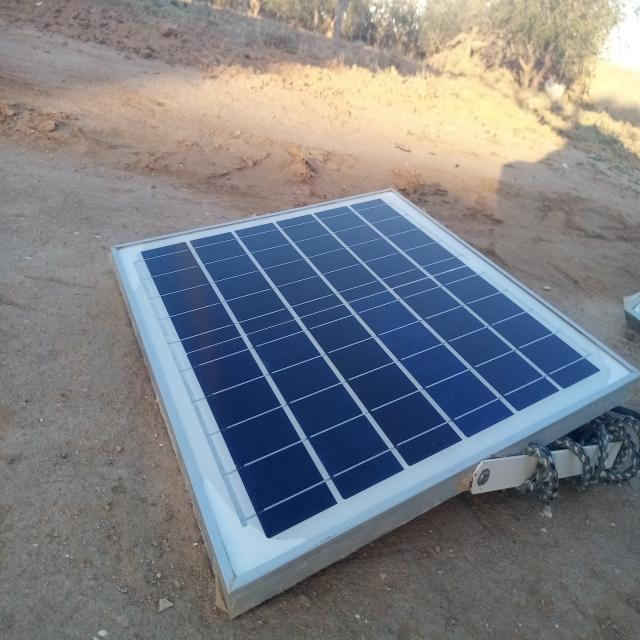no faulty: (114, 189, 637, 591)
